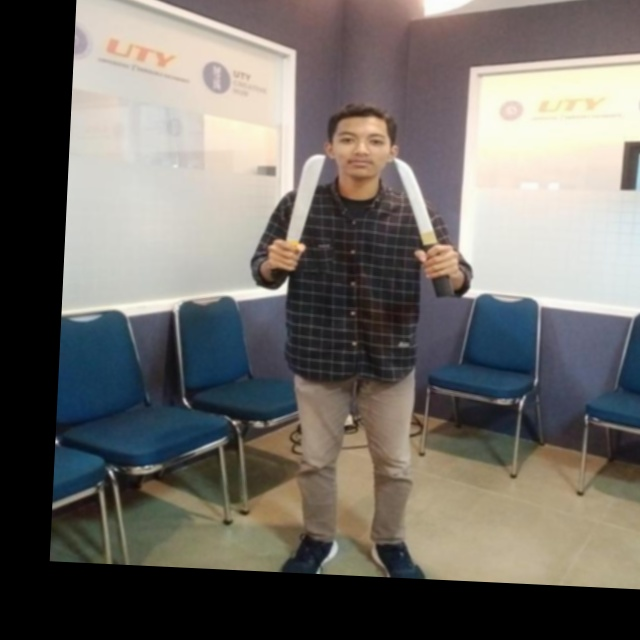Sharp-Object: (258, 148, 336, 297), (382, 154, 460, 301)
